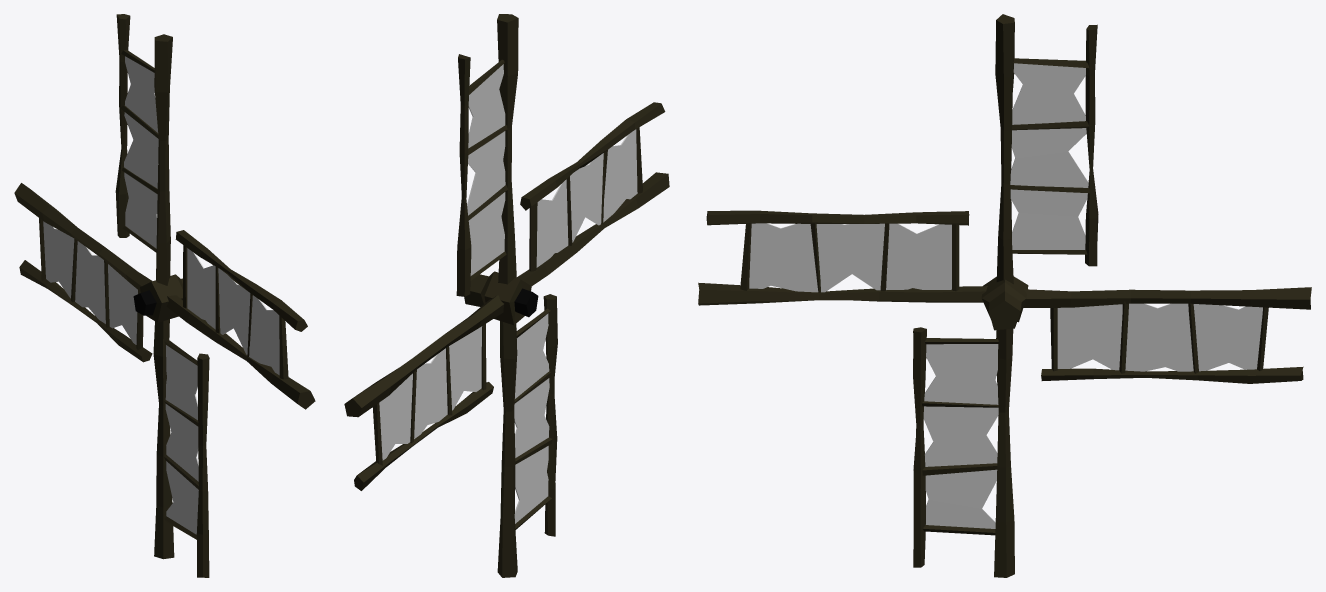
File: WindmillSails.fbx
3 renders of one model, left to right at view 1: azimuth 30°, elevation 25°; view 2: azimuth 150°, elevation 25°; view 3: azimuth 270°, elevation 25°, orthographic. The views are drawn at different scales.
Parts seen in each view (by area): view 1: WindmillSails; view 2: WindmillSails; view 3: WindmillSails.
Part boxes in pixels (<box>): WindmillSails: <box>14,14,315,577</box>; WindmillSails: <box>344,14,669,577</box>; WindmillSails: <box>698,14,1311,577</box>.
Bounding box in the file's own units: 1.52 × 12.72 × 12.73.
